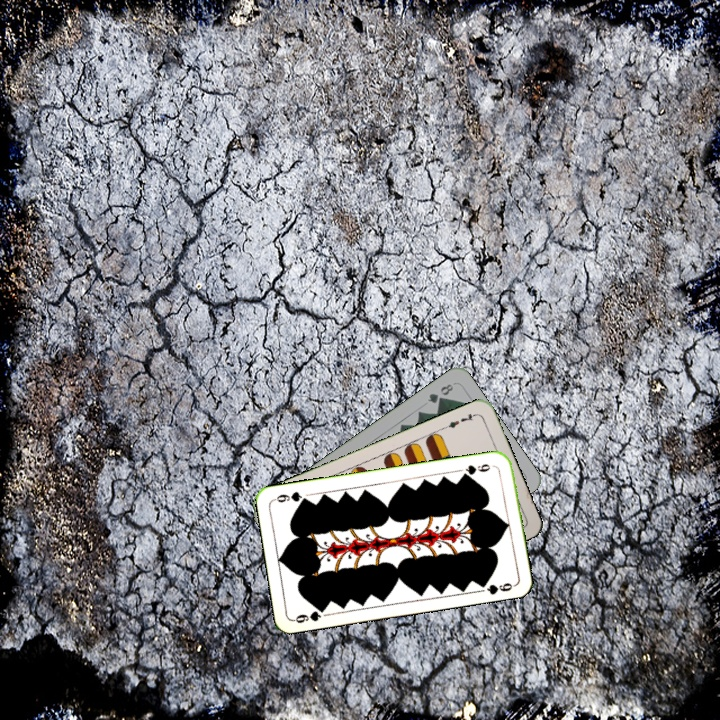E7: (440, 410, 479, 431)
G8: (423, 380, 456, 406)
G9: (290, 603, 329, 626), (458, 460, 493, 479)
